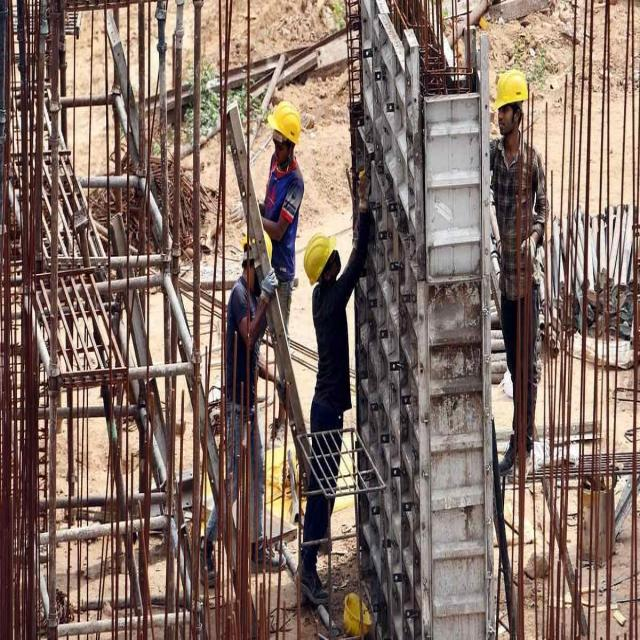Reflective-Jacket: (260, 157, 305, 260)
Safety-Helmet: (302, 227, 339, 288), (266, 97, 303, 148), (491, 65, 529, 112)
